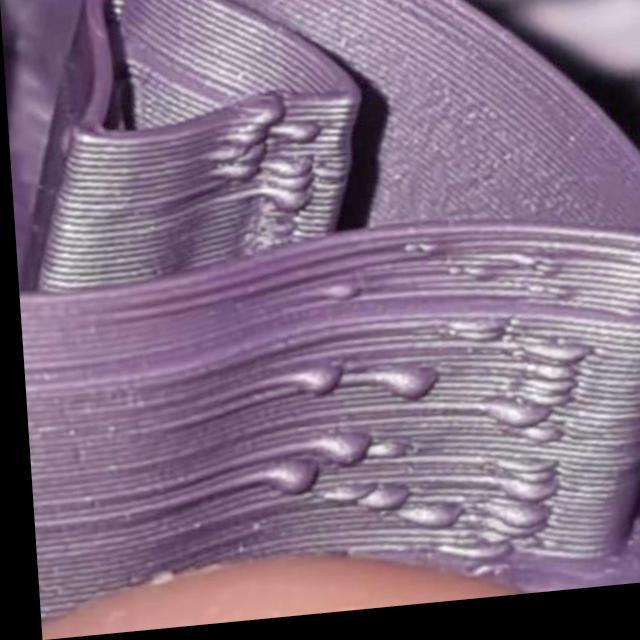zits: (474, 510, 540, 560), (379, 363, 438, 415), (442, 317, 504, 364), (260, 460, 319, 509), (285, 360, 337, 407), (353, 435, 411, 476), (310, 434, 364, 477), (400, 504, 455, 546), (344, 488, 402, 526), (518, 374, 568, 418), (488, 407, 540, 447), (494, 484, 552, 519), (542, 341, 584, 384), (279, 119, 320, 158), (266, 160, 312, 192), (316, 284, 355, 318), (270, 192, 308, 222), (247, 99, 280, 131), (266, 176, 312, 198), (227, 125, 263, 152), (226, 160, 256, 192), (206, 142, 237, 168)
